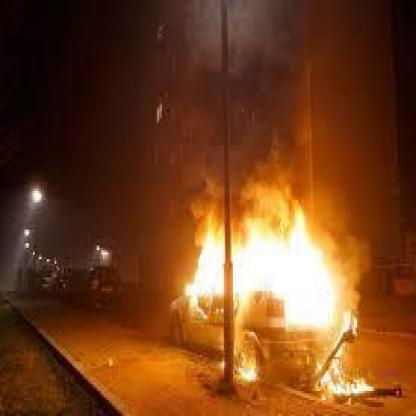fire: (152, 158, 384, 398)
